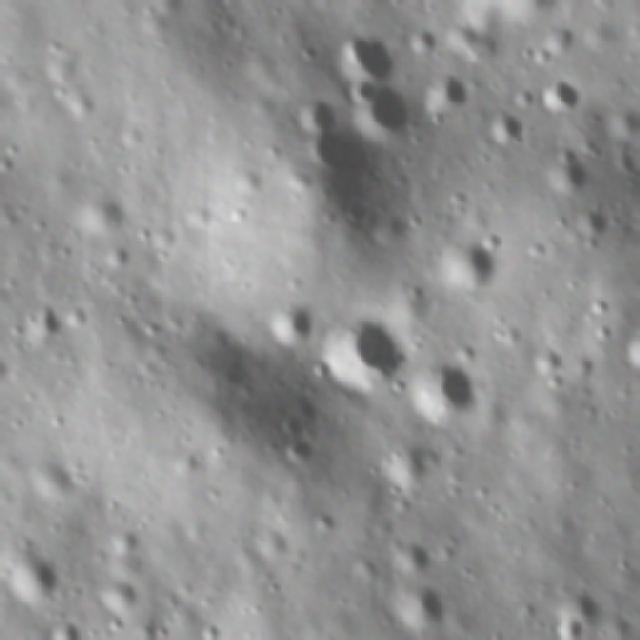crater: (324, 304, 407, 404), (403, 359, 485, 430), (331, 12, 406, 83), (3, 543, 69, 609), (373, 576, 445, 633), (359, 91, 426, 146), (541, 141, 593, 204), (448, 234, 498, 291), (261, 301, 321, 348), (539, 75, 595, 119), (21, 296, 68, 341), (484, 107, 528, 148), (629, 322, 640, 372), (637, 372, 640, 420)
